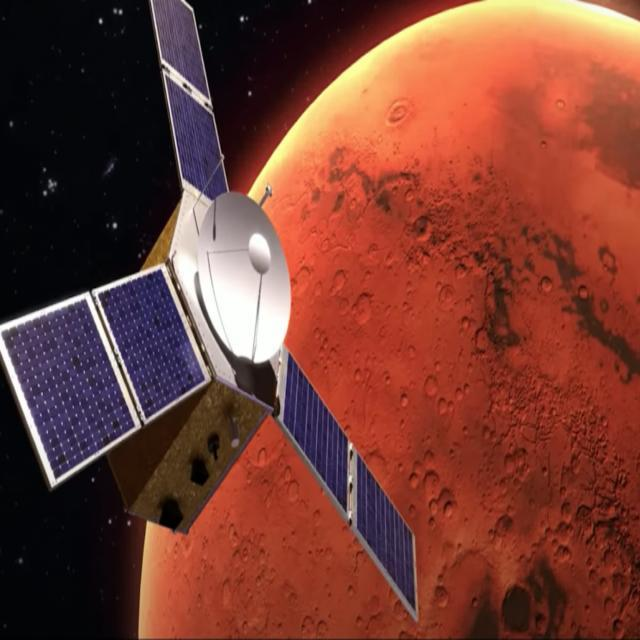sat: (0, 4, 421, 618)
